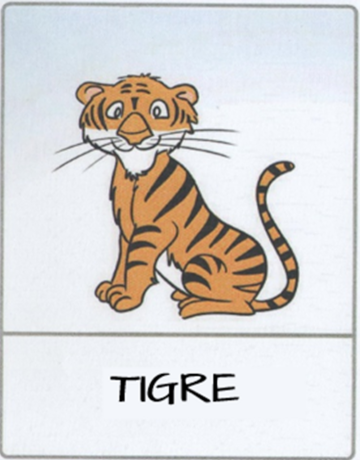tigre: (7, 35, 345, 441)
